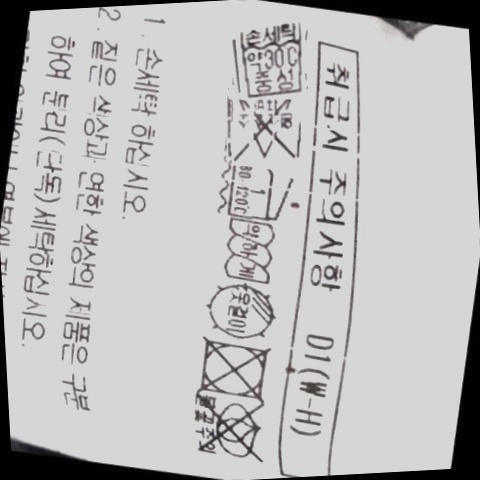DN_tumble_dry: (187, 332, 278, 404)
hand_wash: (228, 21, 313, 99)
iron_low: (220, 159, 293, 226)
line_dry_in_shade: (199, 279, 284, 343)
wring: (218, 216, 280, 288)
